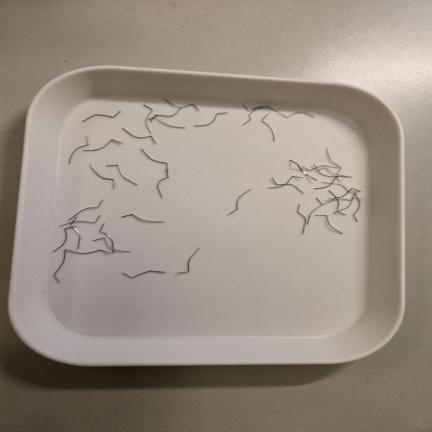probe: (106, 164, 137, 185), (176, 248, 200, 275), (90, 164, 115, 188), (228, 189, 251, 215), (68, 137, 89, 164), (122, 128, 157, 144), (194, 112, 228, 127), (316, 215, 343, 233), (83, 139, 122, 151), (83, 110, 121, 122), (121, 214, 164, 223), (262, 114, 275, 142), (123, 270, 166, 278)
